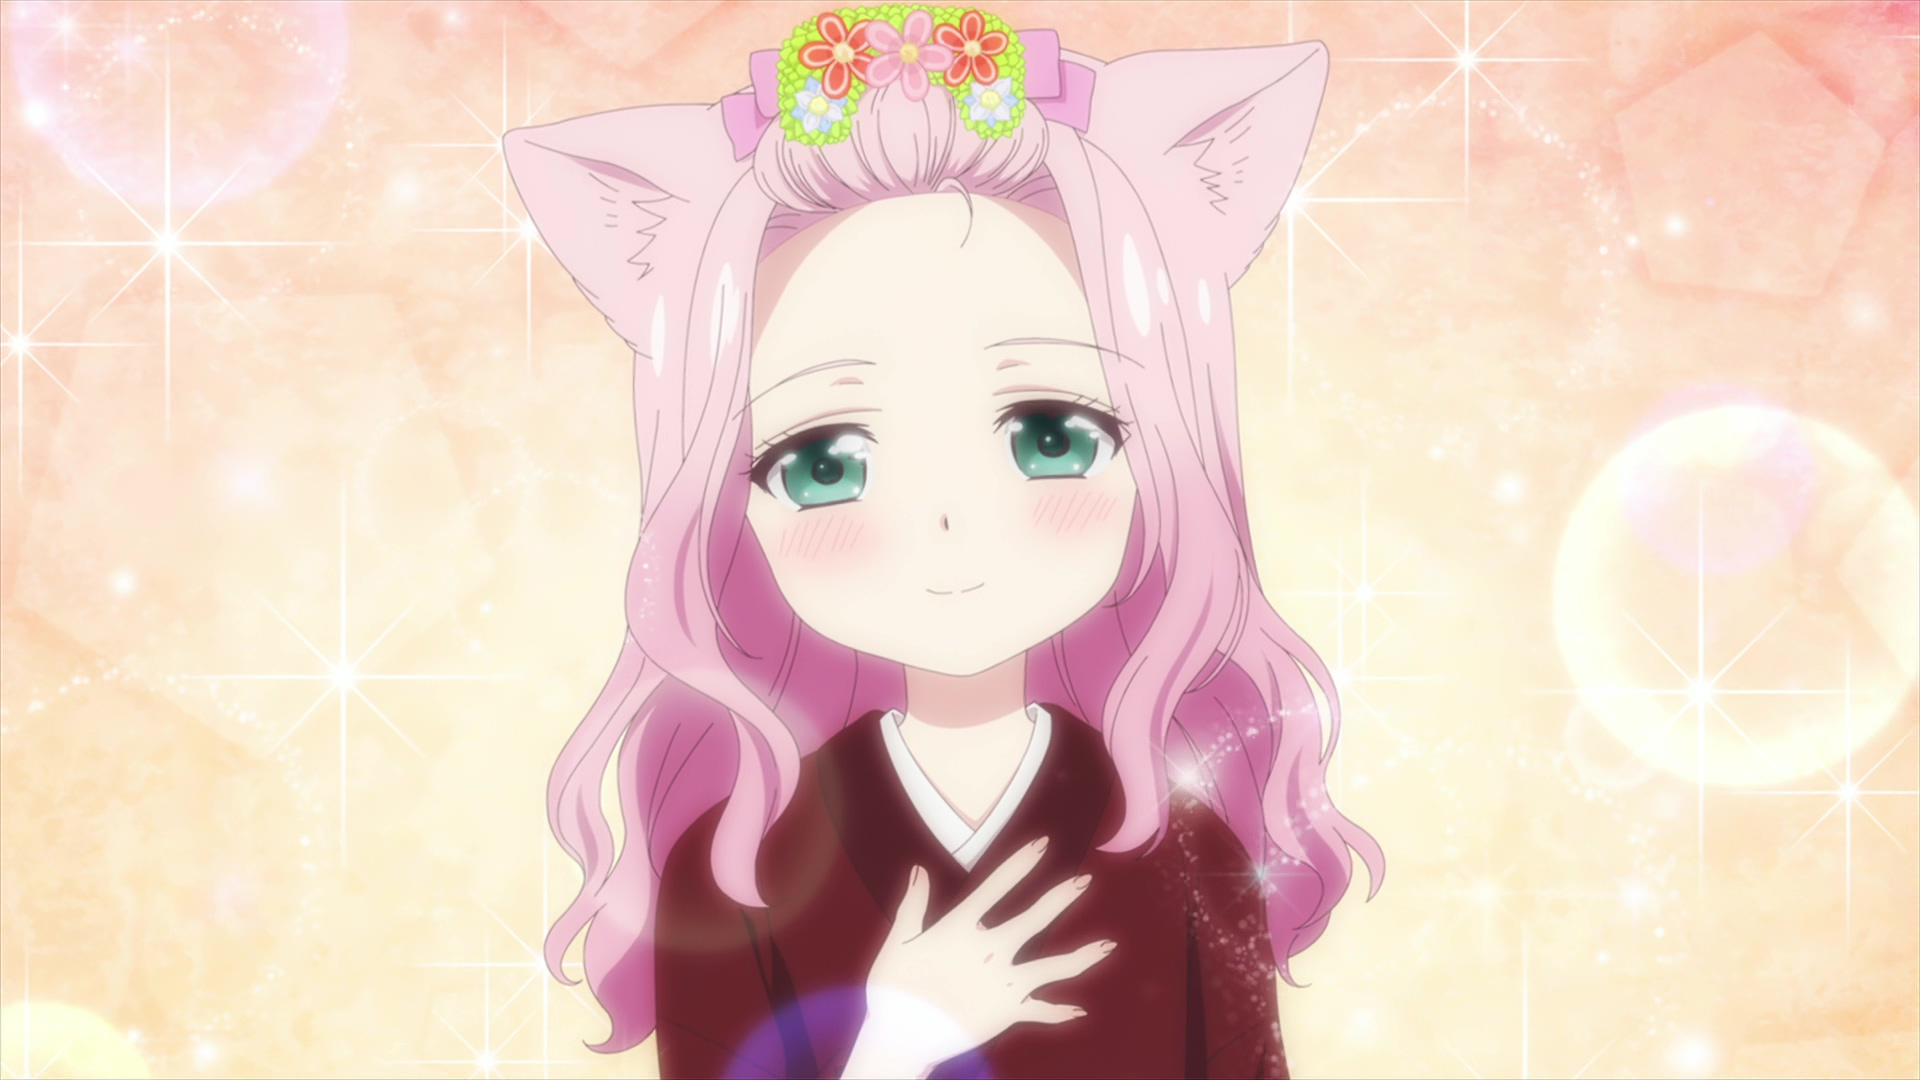莲: (505, 7, 1385, 1080)
